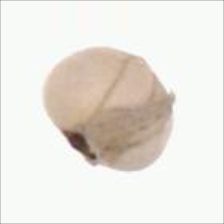L5: (88, 54, 173, 147), (58, 127, 101, 166)
L6: (40, 45, 175, 174)
